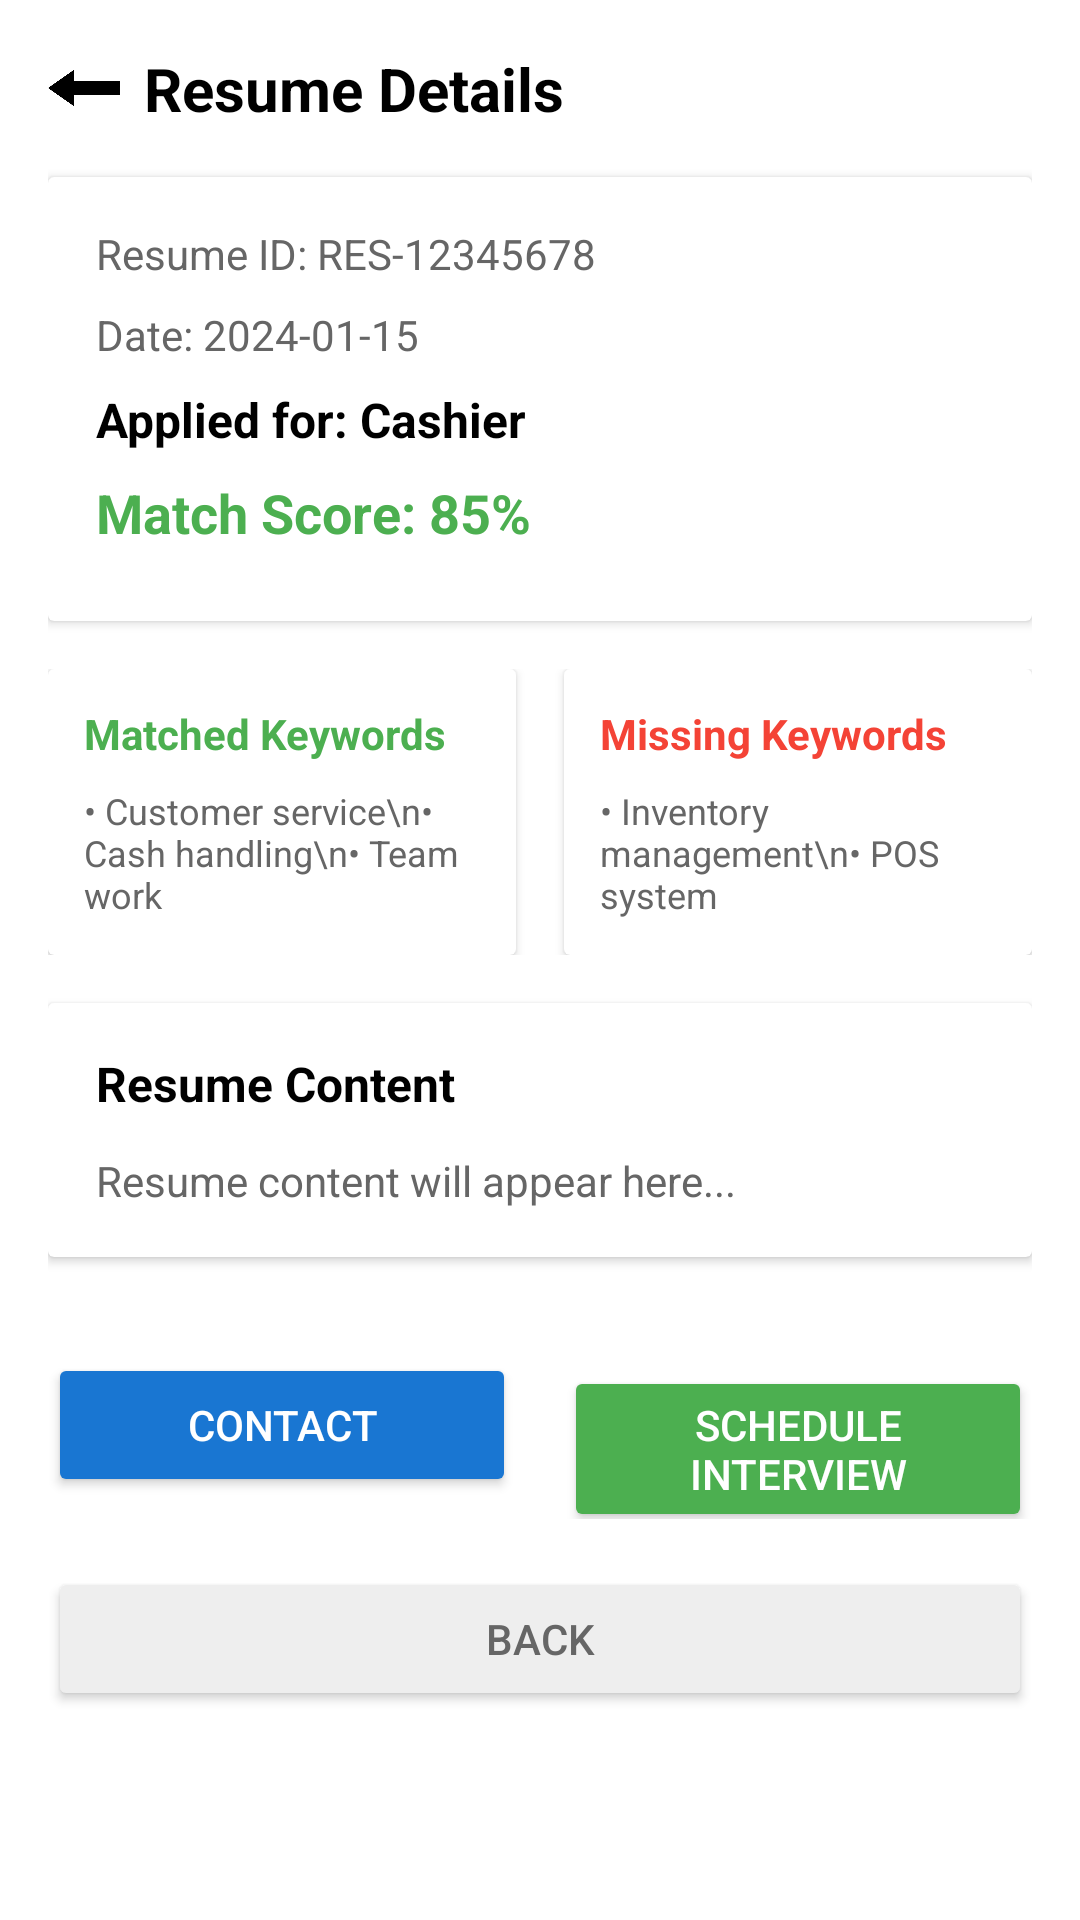

Locate icon controls on the screen. Image size 1080*1920, boxes as (x1, y1, x2, y2).
Back: (49, 70, 120, 106)
